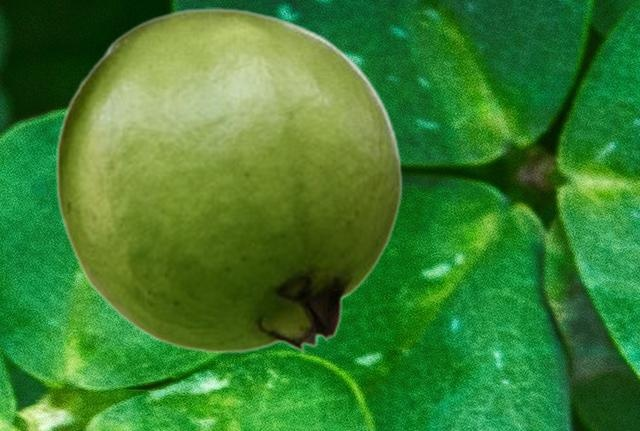guava: (54, 7, 402, 354)
